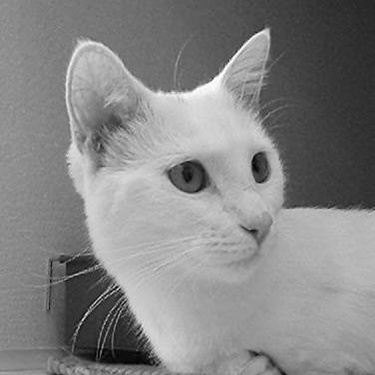cat: (36, 27, 369, 367)
